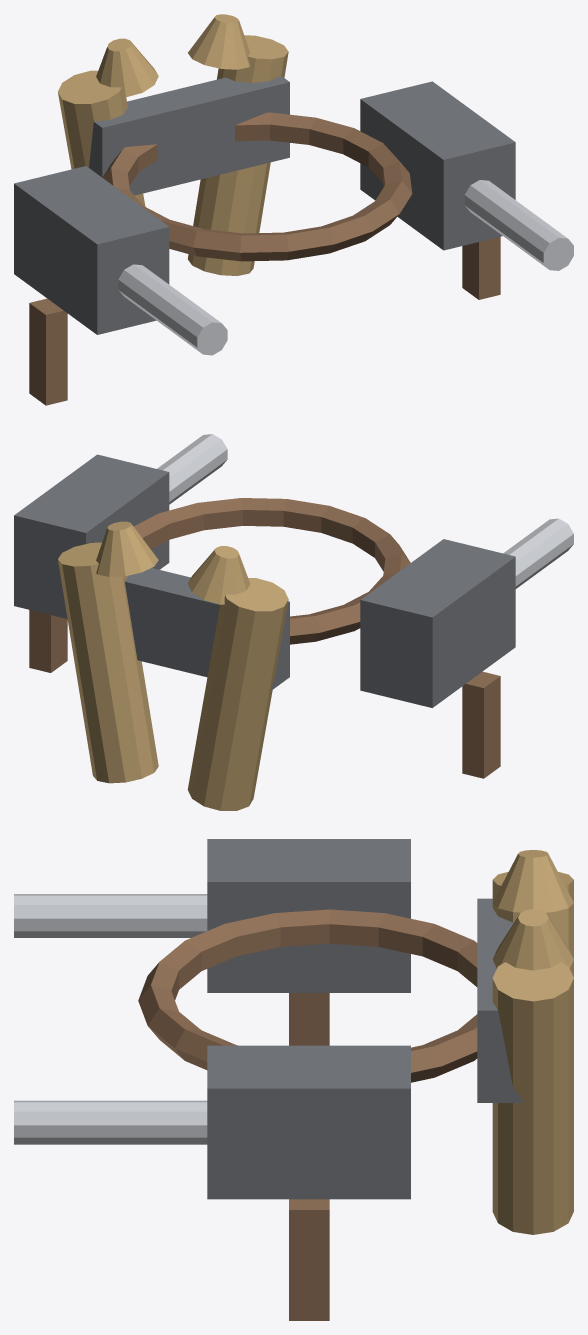
The model's file is dispositif_odm.glb.
3 views of the same model, one above another, from view 1: azimuth 30°, elevation 25°; view 2: azimuth 150°, elevation 25°; view 3: azimuth 270°, elevation 25° (orthographic). The views are drawn at different scales.
Visible parts, largest first — view 1: dispositif_odm; view 2: dispositif_odm; view 3: dispositif_odm.
Boxes of the visible parts, x1,y1,x2,y2 form: dispositif_odm: (14, 14, 573, 405); dispositif_odm: (14, 434, 573, 810); dispositif_odm: (14, 839, 573, 1320).
Bounding box in the file's own units: 0.63 × 0.332 × 0.55.
